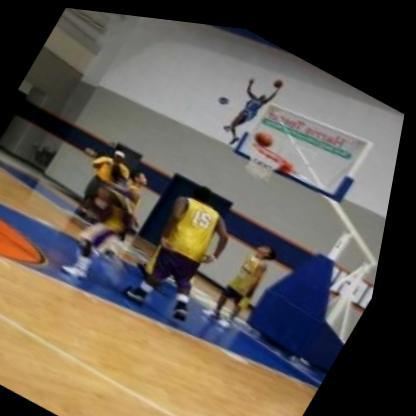basketball: (253, 120, 280, 144)
